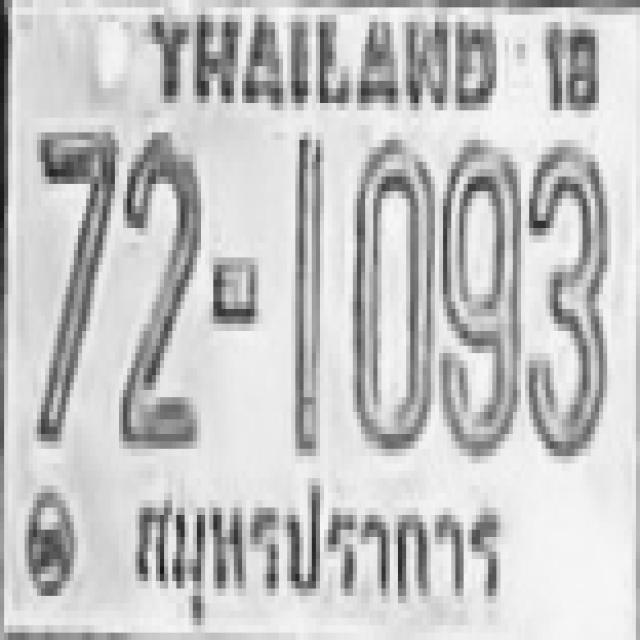0: (348, 136, 431, 445)
1: (289, 133, 322, 456)
2: (117, 132, 199, 442)
3: (523, 140, 609, 456)
7: (35, 125, 117, 441)
9: (437, 136, 519, 445)
SamutPrakan: (127, 477, 512, 625)
